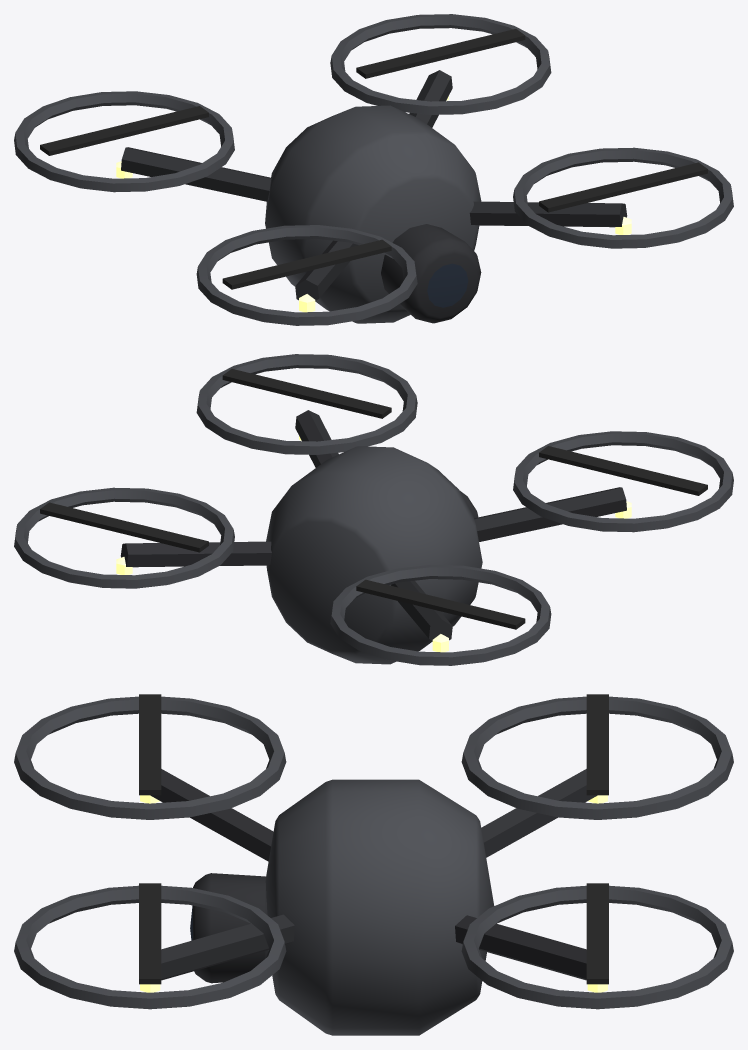
File: Camera_Drone.glb
3 views of the same model, one above another, from view 1: azimuth 30°, elevation 25°; view 2: azimuth 150°, elevation 25°; view 3: azimuth 270°, elevation 25° (orthographic). The views are drawn at different scales.
Visible parts, largest first — view 1: Camera_Drone; view 2: Camera_Drone; view 3: Camera_Drone.
Boxes of the visible parts, <box> form: Camera_Drone: <box>14,14,733,325</box>; Camera_Drone: <box>14,354,733,665</box>; Camera_Drone: <box>14,694,733,1035</box>.
Size of the model in its own units: 0.9554 by 0.34 by 0.9554.
